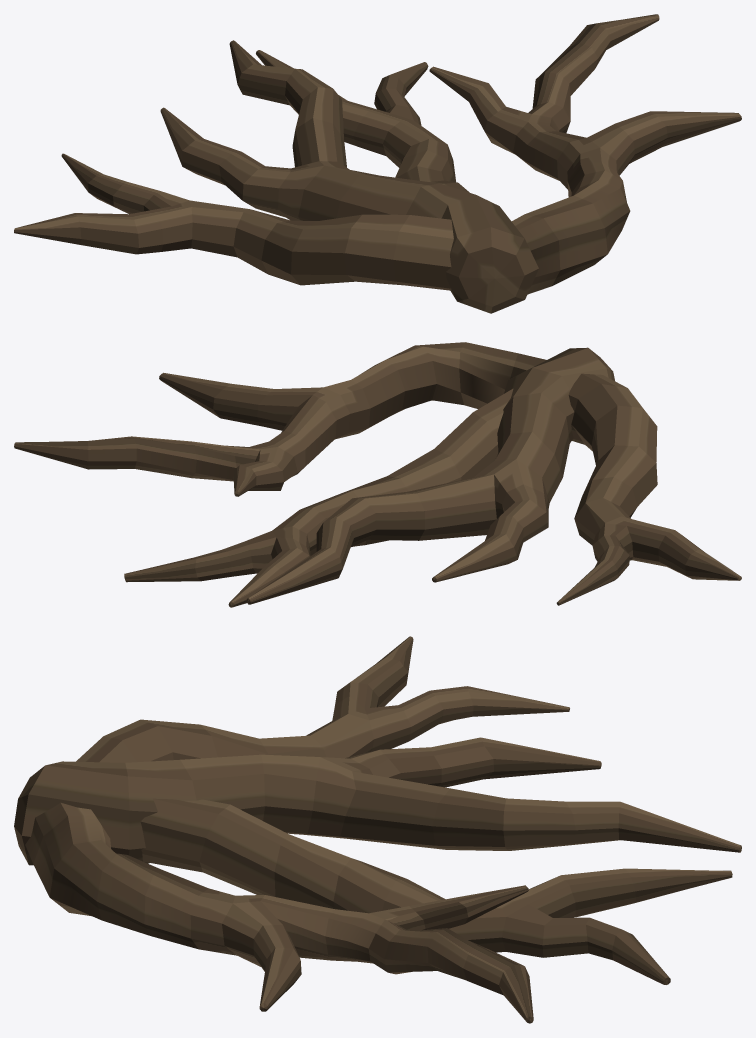
Rendered from enchanted_SM_Env_Roots_Cluster_03.gltf.
The picture shows the model from 3 angles, top to bottom: view 1: azimuth 30°, elevation 25°; view 2: azimuth 150°, elevation 25°; view 3: azimuth 270°, elevation 25°; orthographic projection. The views are drawn at different scales.
Visible parts, largest first — view 1: SM_Env_Roots_Cluster_03; view 2: SM_Env_Roots_Cluster_03; view 3: SM_Env_Roots_Cluster_03.
Boxes of the visible parts, x1,y1,x2,y2 form: SM_Env_Roots_Cluster_03: (14,14,741,313); SM_Env_Roots_Cluster_03: (14,342,741,607); SM_Env_Roots_Cluster_03: (14,636,741,1023).
Bounding box in the file's own units: 4.89 × 0.7679 × 3.87.
1 material, 1 textured.
